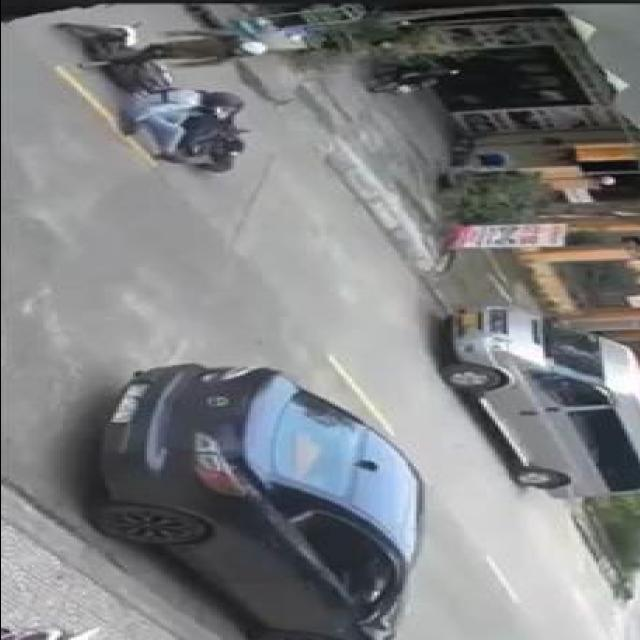accident: (46, 17, 282, 177)
